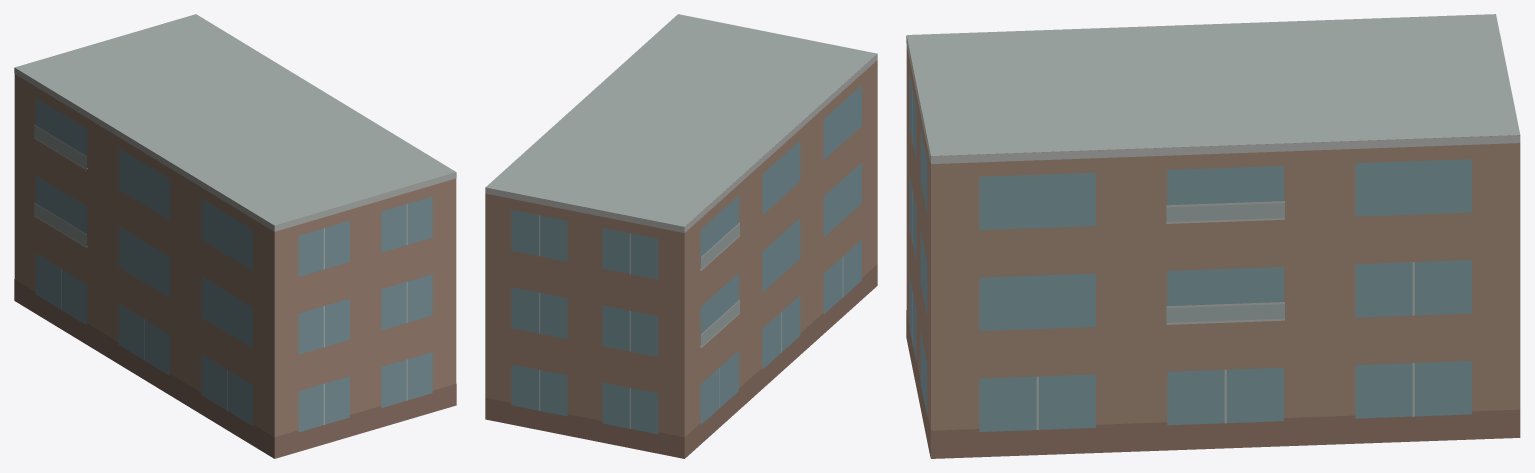
The model's file is survey-upis-32702347.glb.
The picture shows the model from 3 angles, left to right: view 1: azimuth 30°, elevation 25°; view 2: azimuth 150°, elevation 25°; view 3: azimuth 270°, elevation 25°; orthographic projection. The views are drawn at different scales.
Visible parts, largest first — view 1: survey-upis-32702347.tmp; view 2: survey-upis-32702347.tmp; view 3: survey-upis-32702347.tmp.
Boxes of the visible parts, bbox=[...] form: survey-upis-32702347.tmp: bbox=[14, 14, 456, 458]; survey-upis-32702347.tmp: bbox=[485, 14, 877, 458]; survey-upis-32702347.tmp: bbox=[906, 14, 1520, 458].
Bounding box in the file's own units: 9.22 × 9.15 × 16.82.
